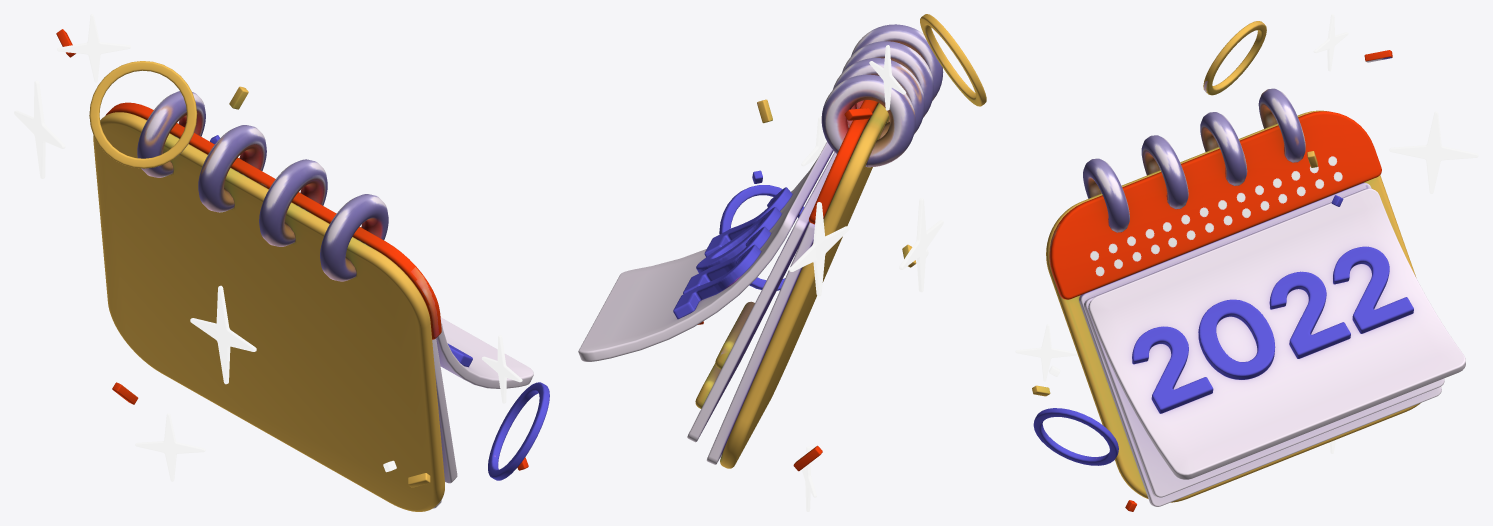
Rendered from calendar.glb.
3 renders of one model, left to right at view 1: azimuth 30°, elevation 25°; view 2: azimuth 150°, elevation 25°; view 3: azimuth 270°, elevation 25°, orthographic. The views are drawn at different scales.
Visible parts, largest first — view 1: calendar; view 2: calendar; view 3: calendar.
Boxes of the visible parts, <box> form: calendar: <box>14,14,549,511</box>; calendar: <box>578,14,986,511</box>; calendar: <box>1015,14,1478,511</box>.
Bounding box in the file's own units: 0.7136 × 0.8266 × 0.8524.
3 materials, 2 textured.
